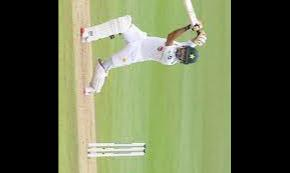batsman: (73, 0, 215, 103)
